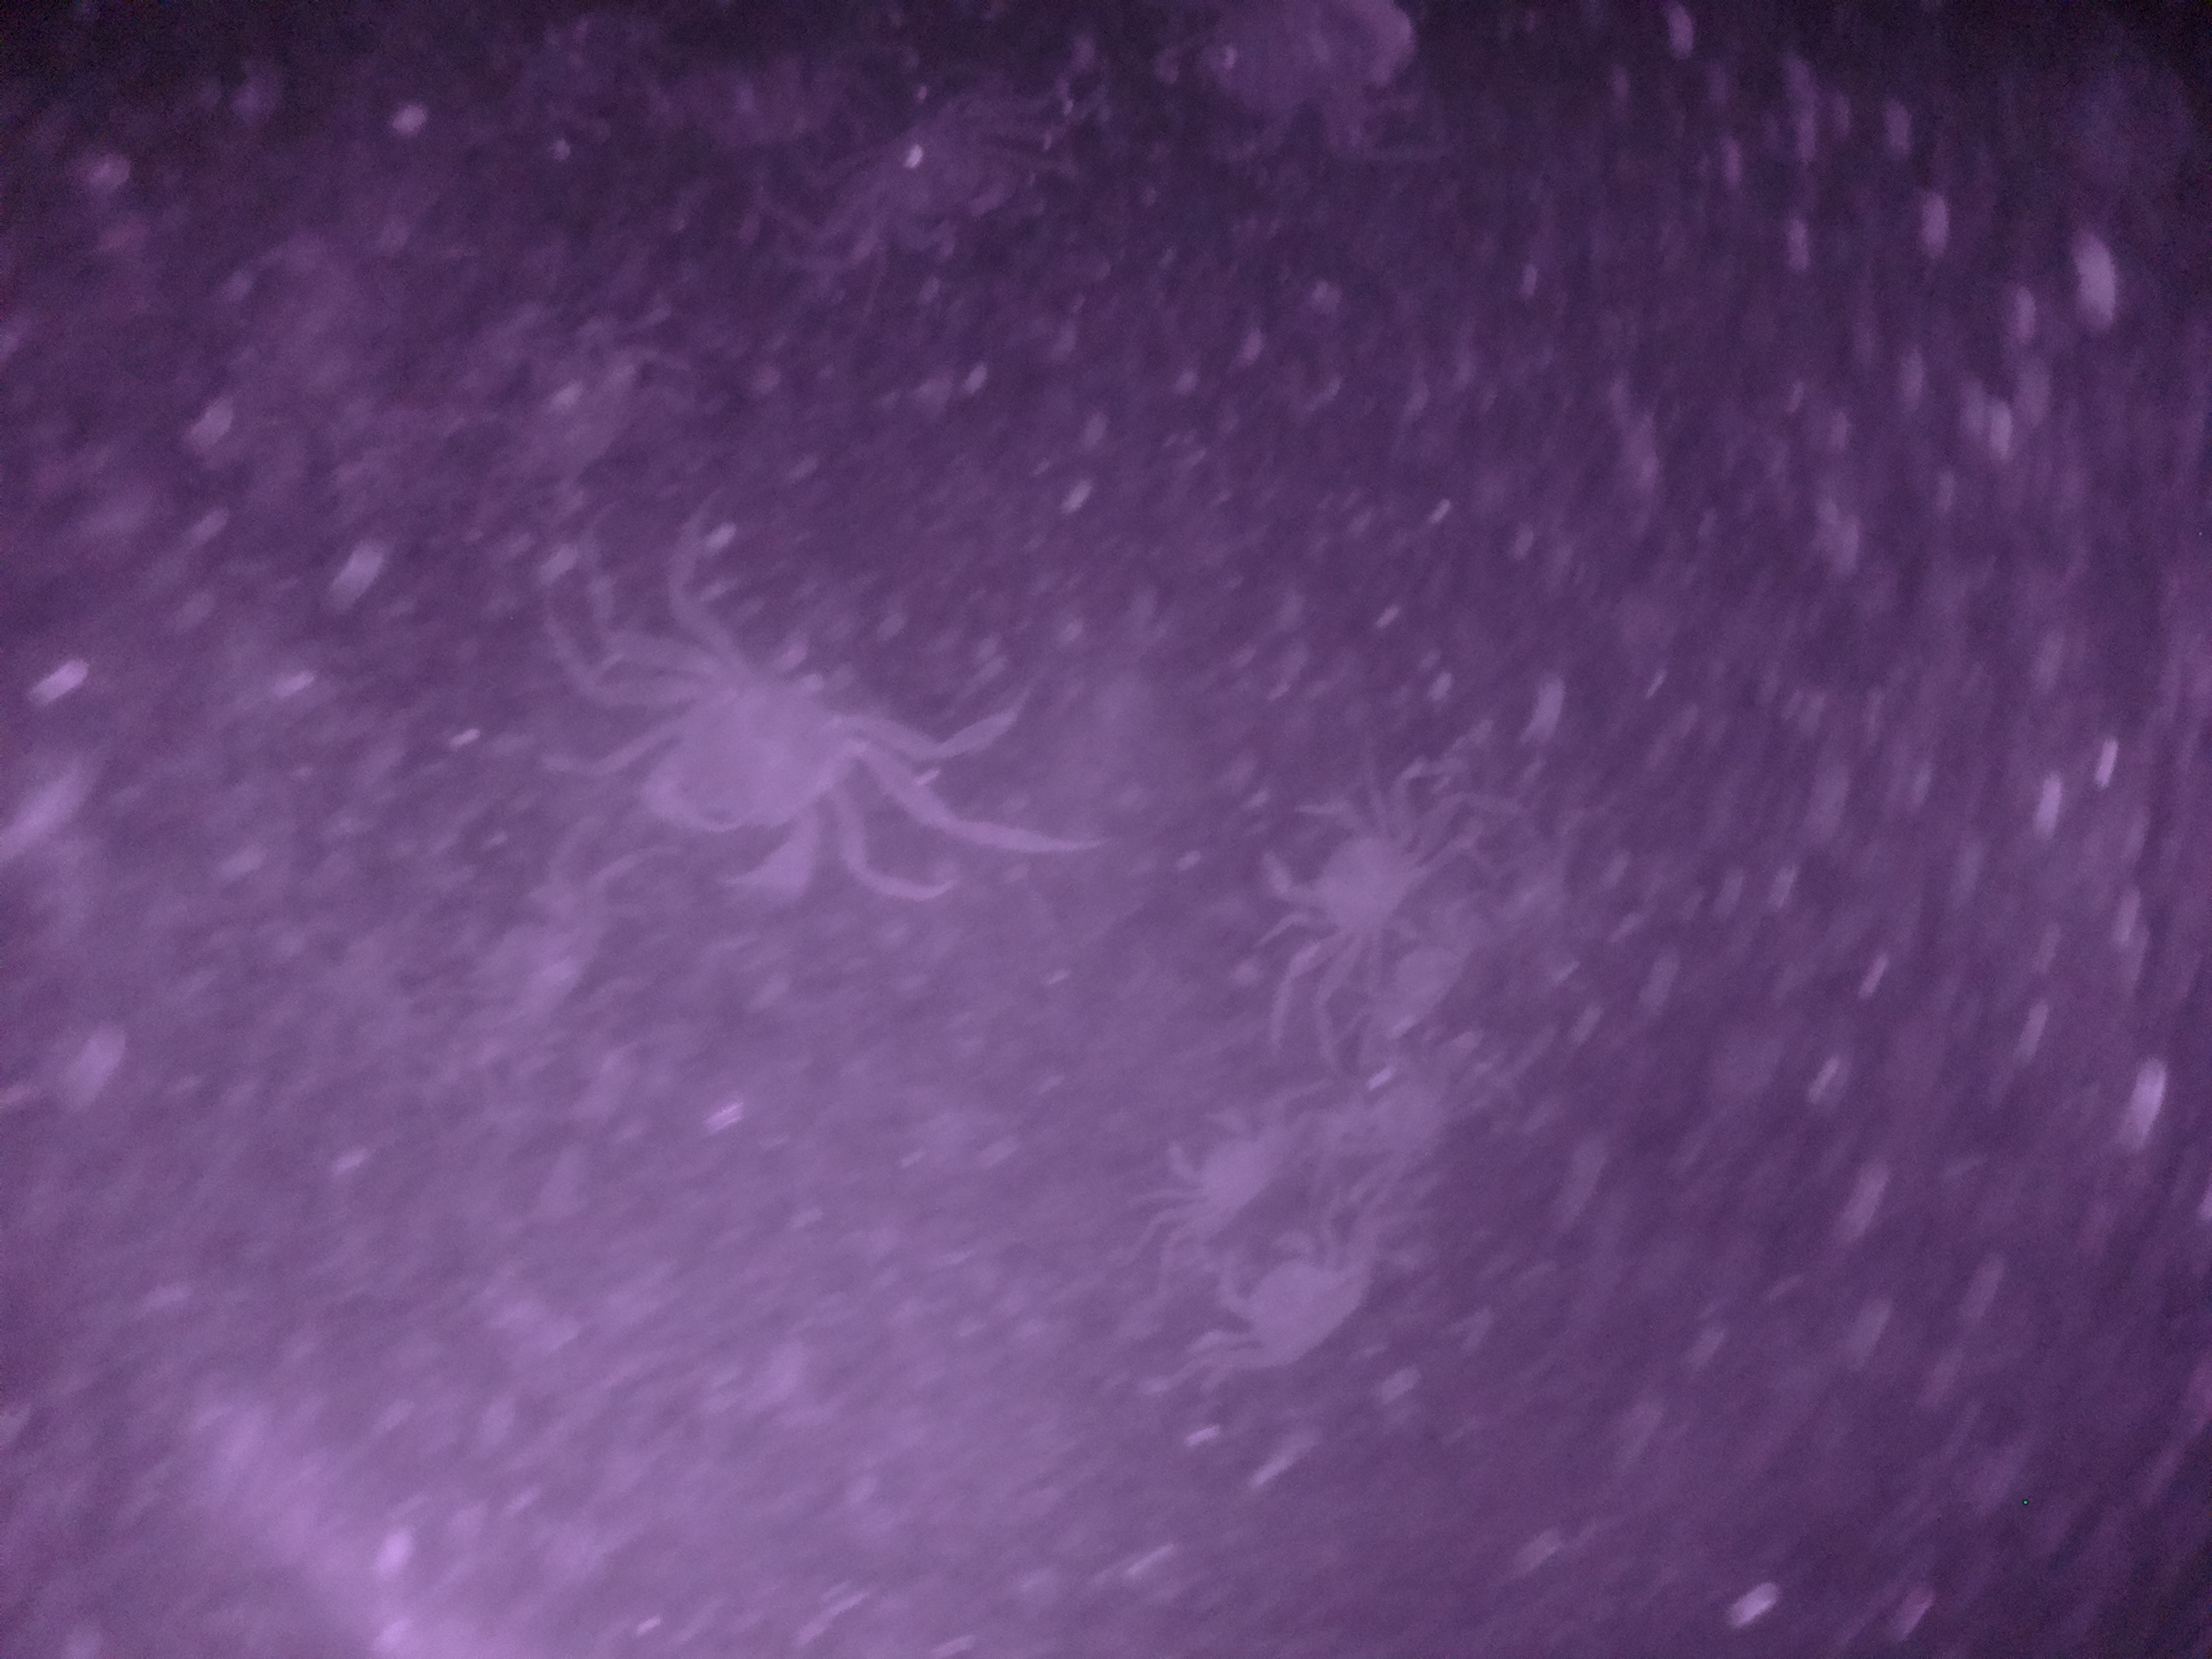Crab: (604, 629, 890, 922), (1244, 781, 1435, 971), (1202, 1222, 1383, 1394), (1144, 1093, 1303, 1234)
